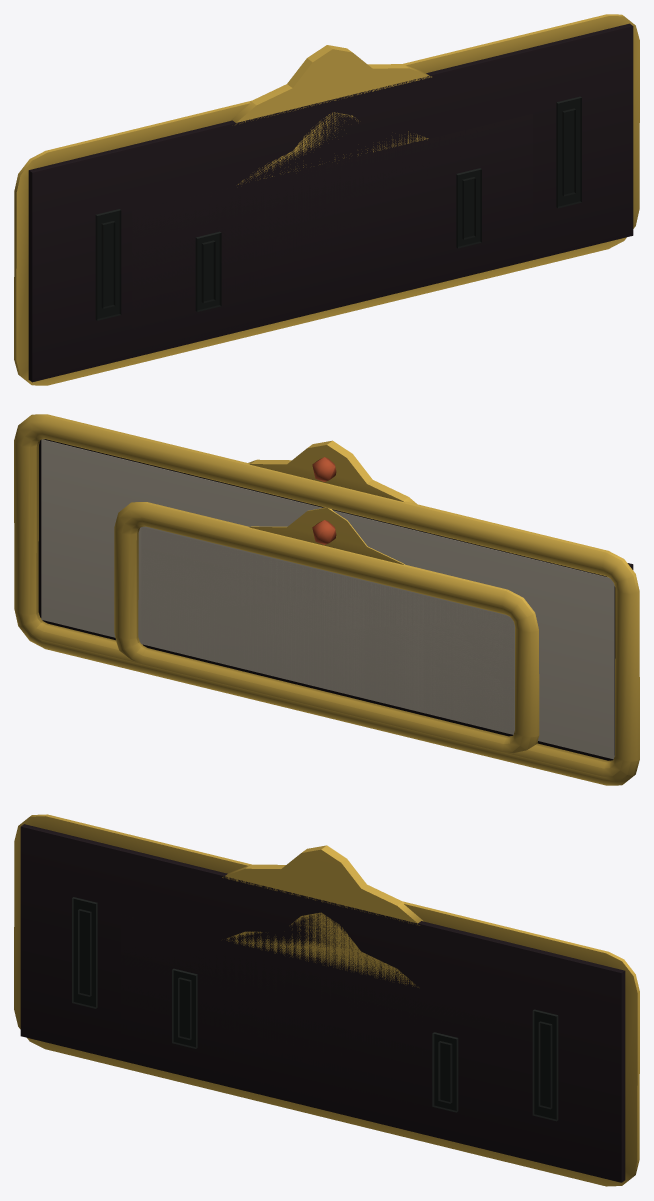
Rendered from kit_signs.glb.
3 renders of one model, top to bottom at view 1: azimuth 30°, elevation 25°; view 2: azimuth 150°, elevation 25°; view 3: azimuth 330°, elevation 25°, orthographic.
Parts seen in each view (by area): view 1: sign_plate_3x1, sign_plate_2x0_7; view 2: sign_plate_3x1, sign_plate_2x0_7; view 3: sign_plate_3x1, sign_plate_2x0_7.
Boxes of the visible parts, bbox=[...] form: sign_plate_3x1: bbox=[14, 14, 639, 385]; sign_plate_2x0_7: bbox=[129, 112, 532, 361]; sign_plate_3x1: bbox=[14, 414, 639, 785]; sign_plate_2x0_7: bbox=[114, 502, 539, 757]; sign_plate_3x1: bbox=[14, 814, 639, 1186]; sign_plate_2x0_7: bbox=[121, 912, 523, 1161].
Size of the model in its own units: 3.11 by 1.3 by 0.181.
